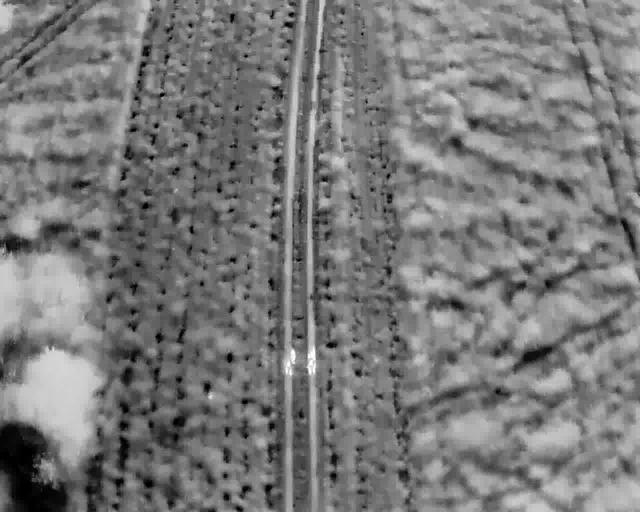person: (283, 344, 295, 376), (305, 345, 316, 377)
